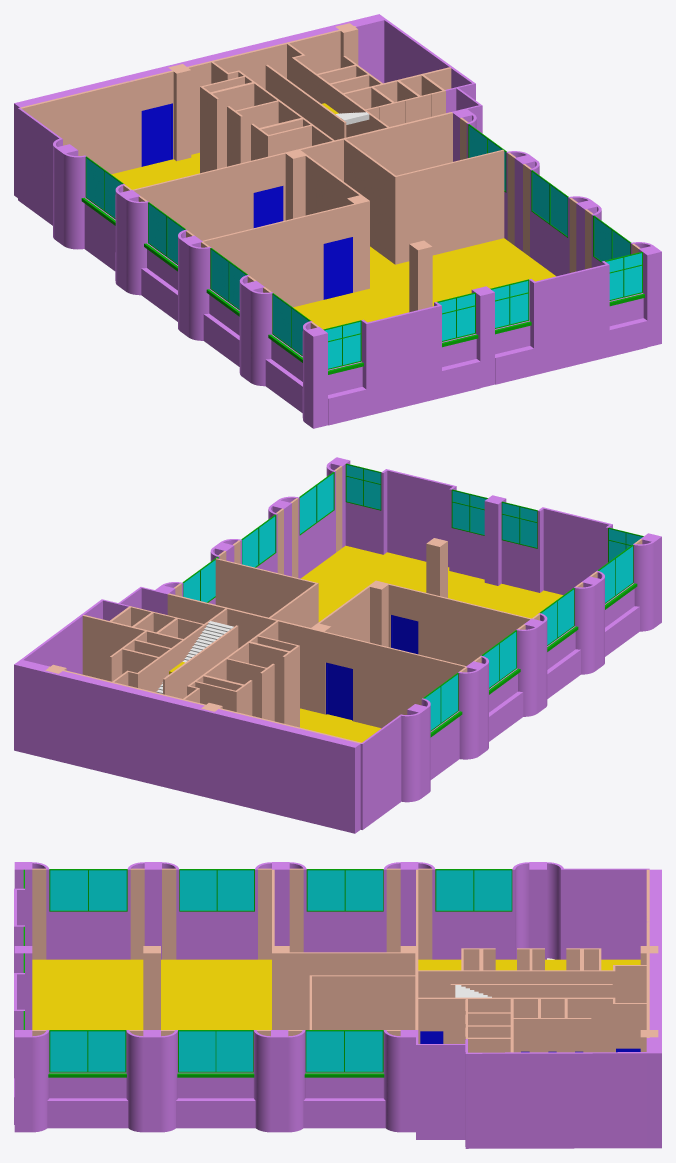
3 renders of one model, top to bottom at view 1: azimuth 30°, elevation 25°; view 2: azimuth 150°, elevation 25°; view 3: azimuth 270°, elevation 25°, orthographic. The views are drawn at different scales.
Visible parts, largest first — view 1: 物件_37; view 2: 物件_37; view 3: 物件_37.
Part boxes in pixels (left/top/right/bottom): 物件_37: left=14, top=14, right=661, bottom=428; 物件_37: left=14, top=457, right=661, bottom=833; 物件_37: left=14, top=862, right=661, bottom=1148.
Size of the model in its own units: 117 by 27.08 by 167.
